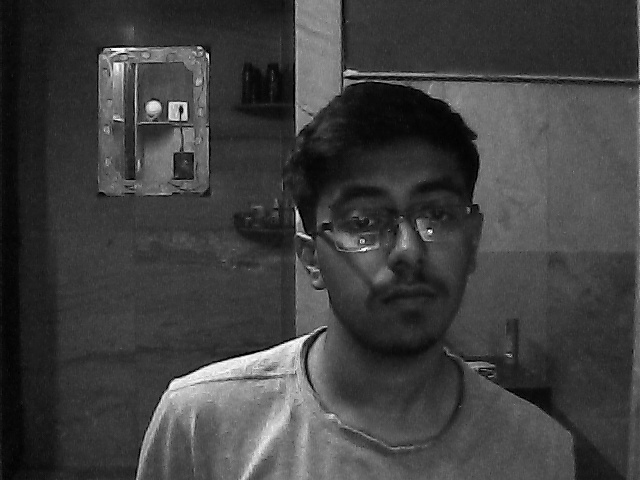nomask: (305, 131, 483, 360)
